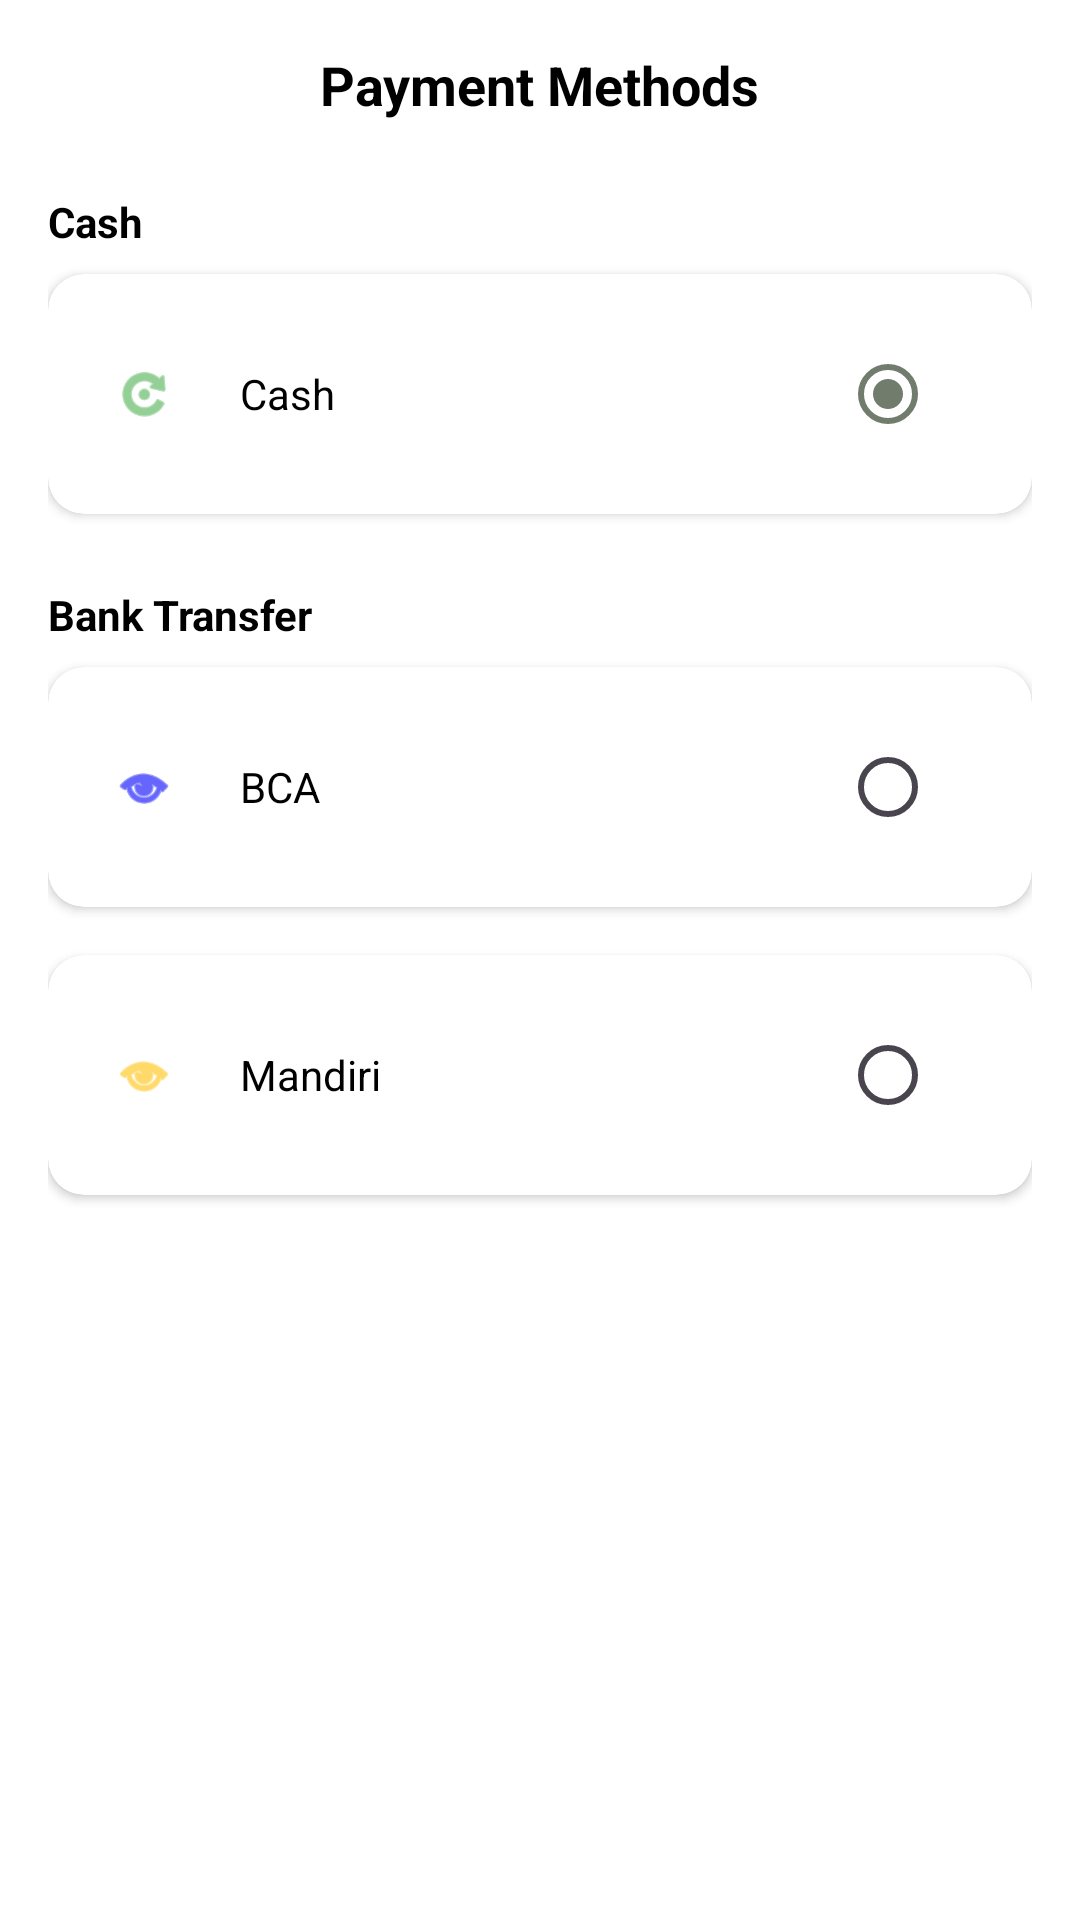

Icons on this 1080 x 1920 Android screen, each with the point to tap as point (x, y):
rotate: point (144, 394)
view: point (144, 788), point (144, 1076)
